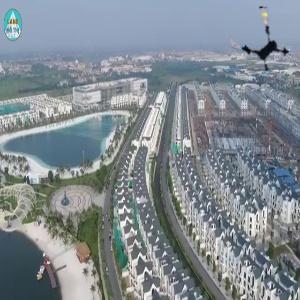drone: (230, 8, 297, 75)
